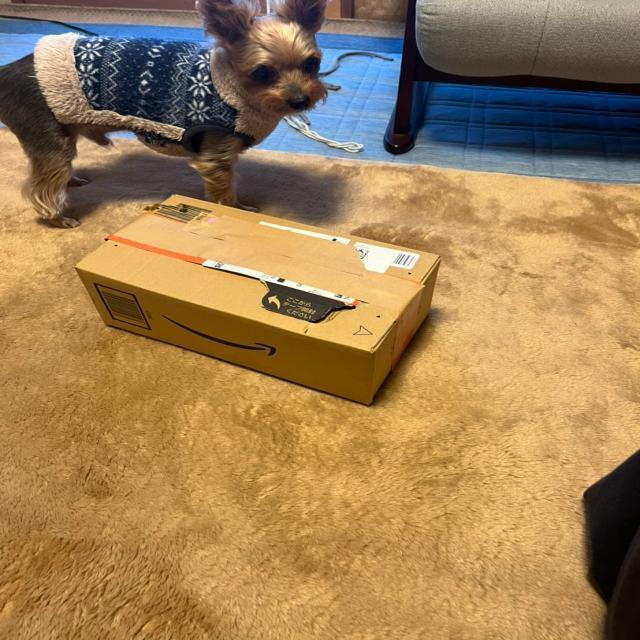box: (76, 190, 450, 410)
